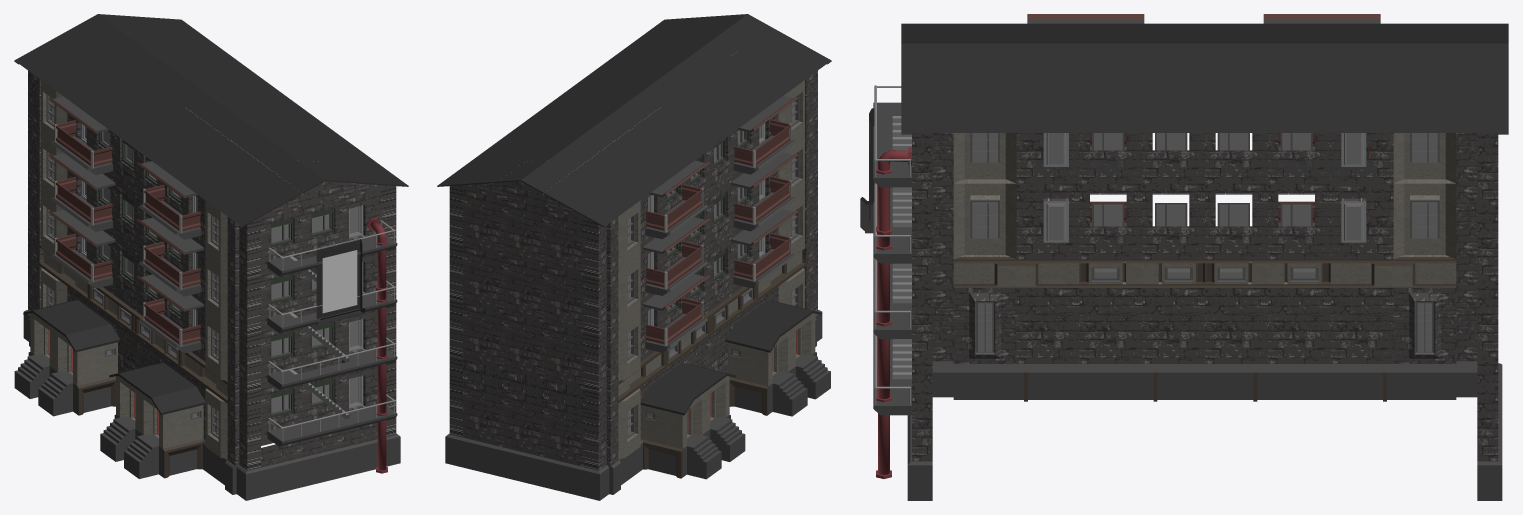
Rendered from BLOCK3.2.fbx.
The picture shows the model from 3 angles, left to right: view 1: azimuth 30°, elevation 25°; view 2: azimuth 150°, elevation 25°; view 3: azimuth 270°, elevation 25°; orthographic projection. The views are drawn at different scales.
Parts seen in each view (by area): view 1: Plane.1924, Plane.1926, Plane.1896, Plane.1650, Plane.1648, Plane.1693, Plane.1675, Plane.1932, Plane.1936, Plane.1940, Plane.1930, Plane.1938 (+119 smaller); view 2: Plane.1926, Plane.1924, Plane.1917, Plane.1920, Plane.1908, Plane.1914, Plane.1907, Plane.1913, Plane.1916, Plane.1919, Plane.1909, Plane.1918 (+103 smaller); view 3: Plane.1704, Plane.1703, Plane.1555, Plane.1565, Plane.1591, Plane.1593, Plane.1929, Plane.1590, Plane.1592, Plane.1928, Plane.1598, Plane.1564 (+103 smaller).
Part boxes in pixels (<box>): Plane.1924: <box>100,362,205,478</box>; Plane.1926: <box>14,300,120,416</box>; Plane.1896: <box>316,239,365,323</box>; Plane.1650: <box>267,394,397,446</box>; Plane.1648: <box>267,337,397,389</box>; Plane.1693: <box>214,181,286,227</box>; Plane.1675: <box>14,35,86,80</box>; Plane.1932: <box>139,298,201,353</box>; Plane.1936: <box>139,241,201,296</box>; Plane.1940: <box>138,184,201,239</box>; Plane.1930: <box>50,233,112,288</box>; Plane.1938: <box>50,120,112,174</box>; Plane.1926: <box>640,363,745,479</box>; Plane.1924: <box>725,300,830,416</box>; Plane.1917: <box>503,256,544,322</box>; Plane.1920: <box>503,199,544,265</box>; Plane.1908: <box>503,391,544,457</box>; Plane.1914: <box>503,313,544,379</box>; Plane.1907: <box>463,381,503,447</box>; Plane.1913: <box>463,303,503,369</box>; Plane.1916: <box>463,246,503,312</box>; Plane.1919: <box>463,189,503,255</box>; Plane.1909: <box>544,401,584,467</box>; Plane.1918: <box>544,266,584,332</box>; Plane.1704: <box>953,179,1016,259</box>; Plane.1703: <box>1393,179,1456,259</box>; Plane.1555: <box>953,288,1016,363</box>; Plane.1565: <box>1393,288,1456,363</box>; Plane.1591: <box>1016,288,1079,363</box>; Plane.1593: <box>1330,288,1393,363</box>; Plane.1929: <box>1079,288,1142,363</box>; Plane.1590: <box>1142,288,1204,363</box>; Plane.1592: <box>1268,288,1330,363</box>; Plane.1928: <box>1205,288,1267,363</box>; Plane.1598: <box>1016,183,1079,259</box>; Plane.1564: <box>1330,257,1456,287</box>.
Bounding box in the file's own units: 1608 × 2142 × 3096.
